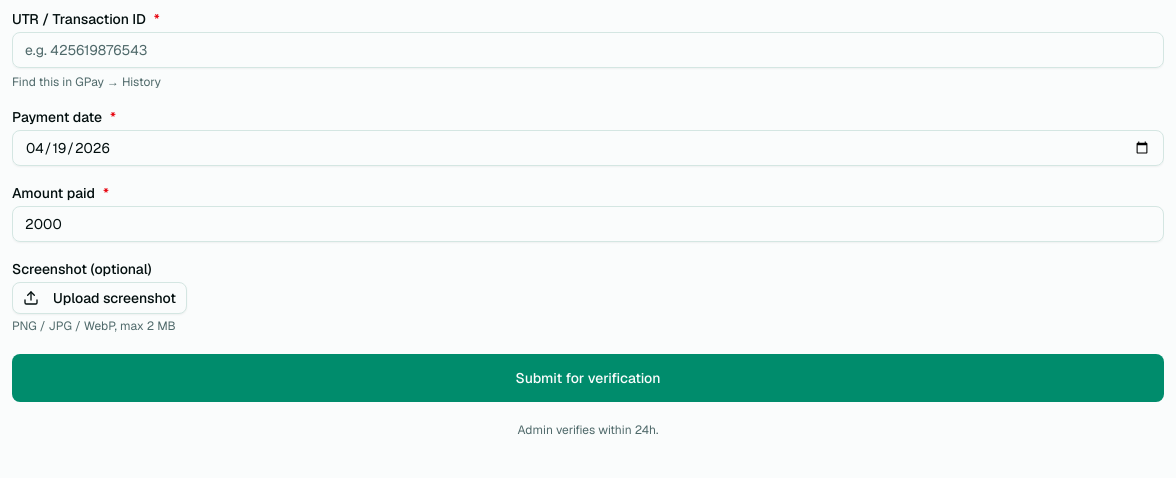
Test case: PaymentClaimForm › shows validation error when UTR is empty on submit
The width and height of the screenshot is (1176, 478).
Step 1. Click the button "Submit for verification" → [588, 378], box [12,354,1164,402]
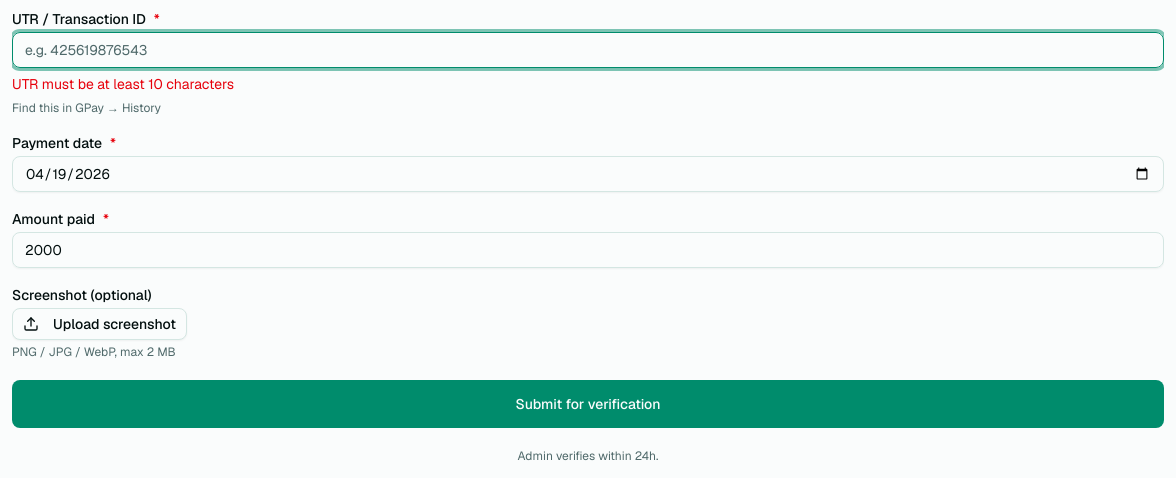
Now the text "UTR must be at least 10 characters" is shown, box [12,75,234,93]
